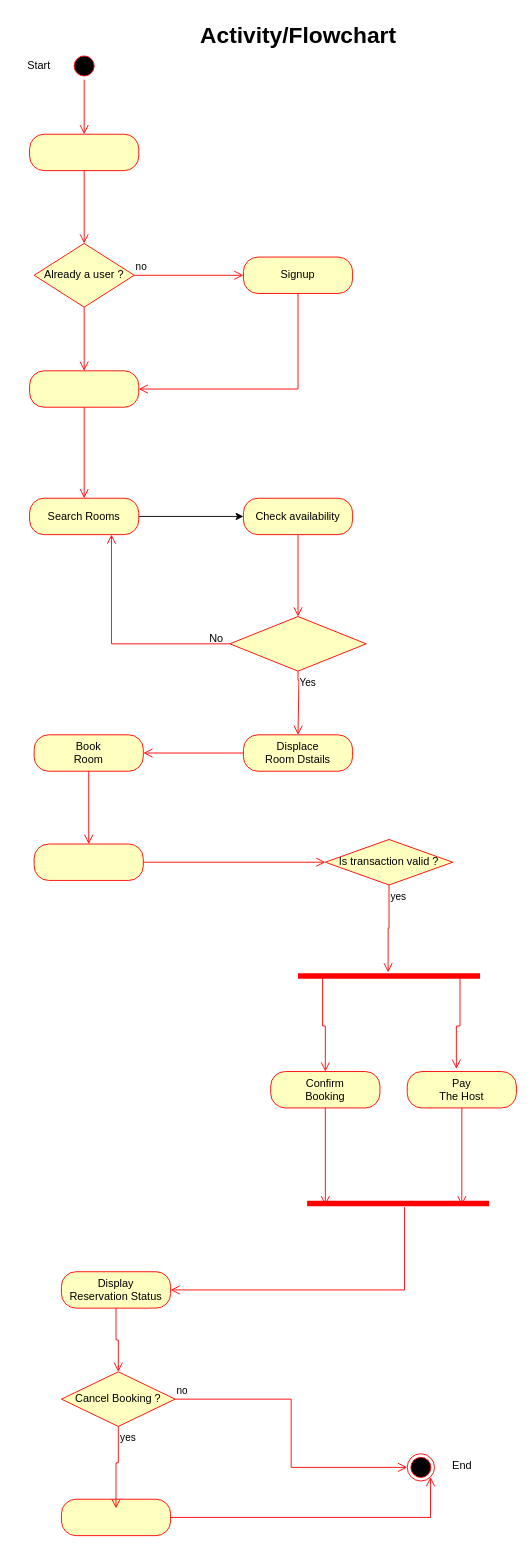
The diagram is 532 pixels wide and 1552 high, and some of its shapes have lost their labels. The box of each missing label's shape, as (x1, y1, x2, y2) in pixels:
Handle Cancellation: (61, 1498, 171, 1536)
Is Room Available ?: (229, 616, 366, 671)
Process Booking Transaction: (33, 843, 143, 880)
Search/Browse AirBnB: (29, 133, 139, 171)
Signin: (29, 370, 139, 407)
